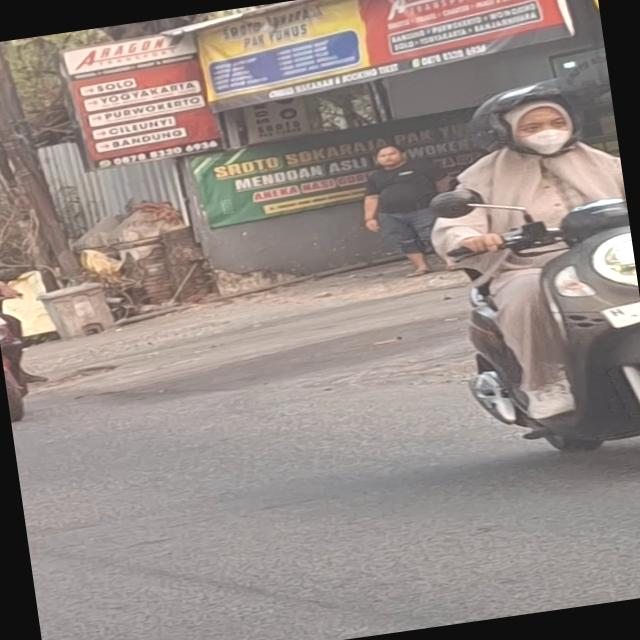WithHelmet: (405, 71, 640, 434)
